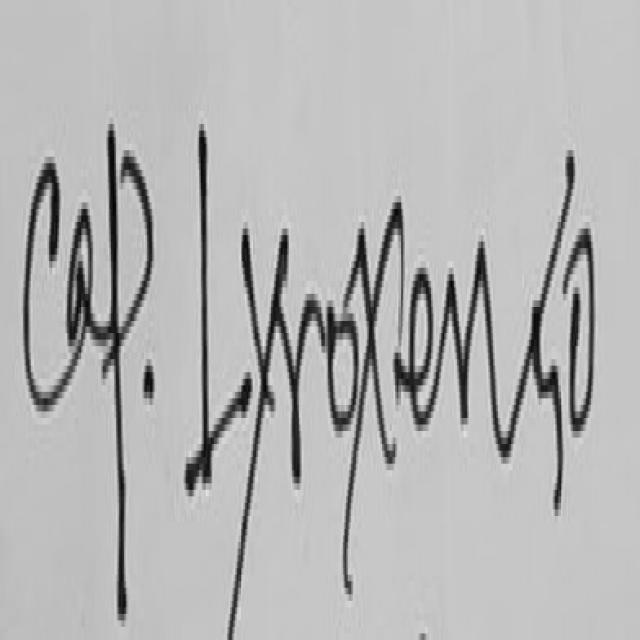0: (561, 170, 608, 477)
5: (527, 101, 584, 574)
C: (14, 87, 68, 466)
L: (180, 52, 249, 500)
a: (67, 170, 100, 376)
e: (396, 238, 444, 443)
n: (440, 200, 505, 510)
o: (319, 266, 359, 446)
p: (102, 83, 156, 594)
r: (274, 283, 322, 512)
x: (314, 184, 417, 599)
y: (208, 193, 298, 640)
